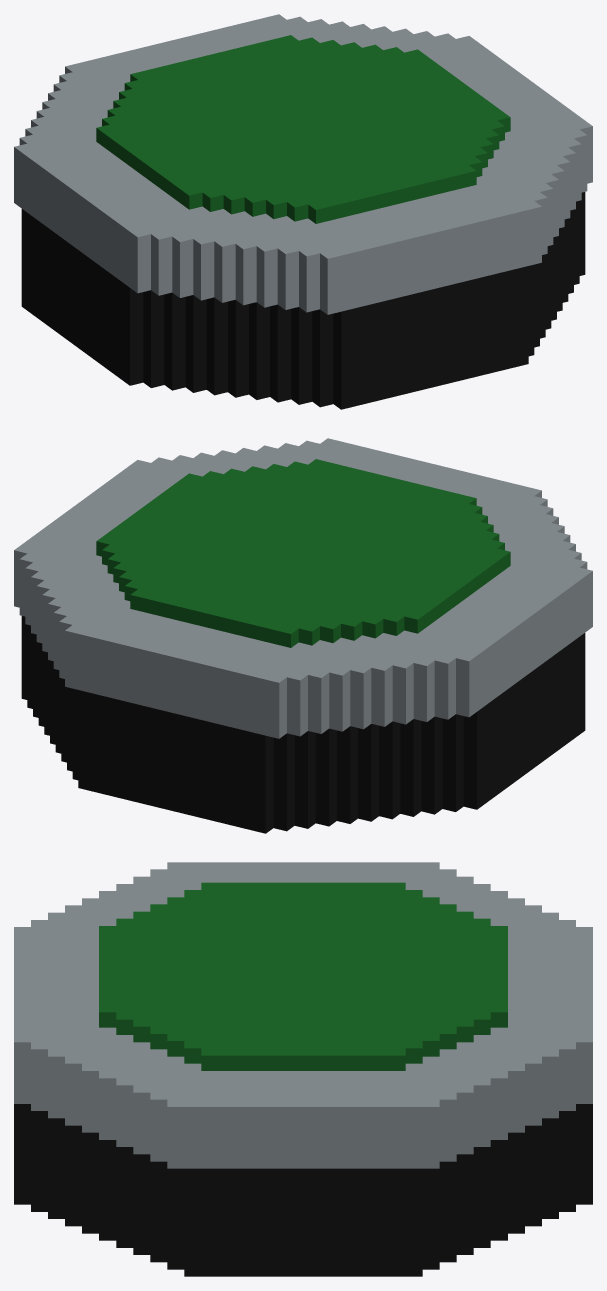
File: chewing_tobacco.glb
3 renders of one model, top to bottom at view 1: azimuth 30°, elevation 25°; view 2: azimuth 150°, elevation 25°; view 3: azimuth 270°, elevation 25°, orthographic. The views are drawn at different scales.
Parts seen in each view (by area): view 1: chewing_tobacco:compound; view 2: chewing_tobacco:compound; view 3: chewing_tobacco:compound.
Part boxes in pixels (x1,y1,x2,y2): chewing_tobacco:compound: (14, 14, 592, 409); chewing_tobacco:compound: (14, 438, 592, 833); chewing_tobacco:compound: (14, 862, 592, 1276).
Size of the model in its own units: 0.068 by 0.024 by 0.068.
